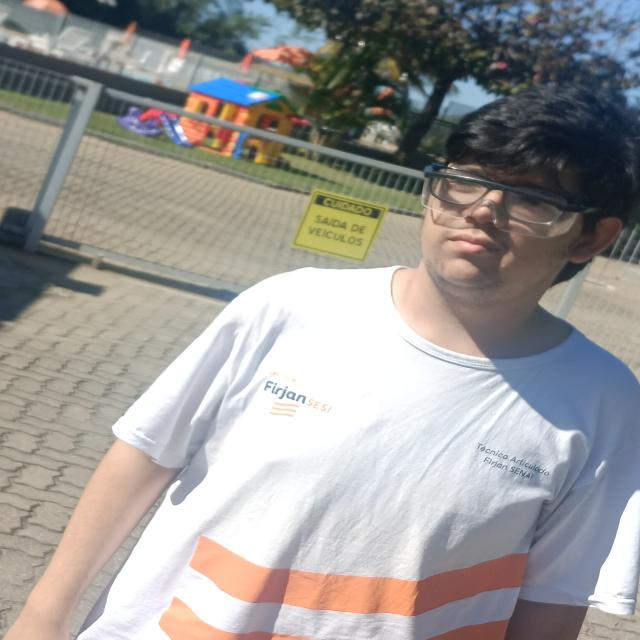oculos-epi: (422, 165, 597, 237)
